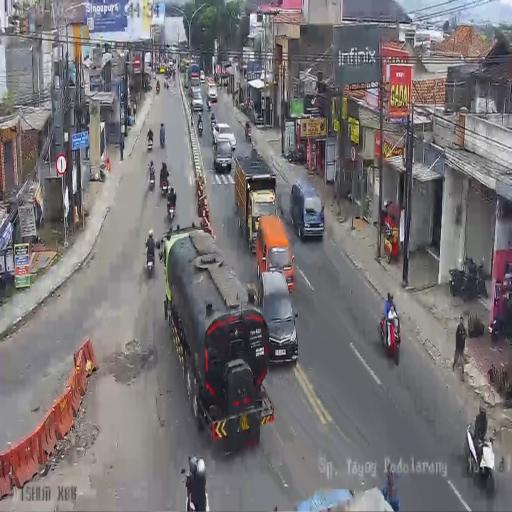3: (234, 154, 276, 250), (188, 63, 200, 85), (144, 51, 151, 73), (183, 57, 192, 70)
car: (258, 272, 300, 364), (290, 176, 325, 240), (212, 122, 235, 152), (190, 89, 204, 112), (207, 80, 217, 103), (188, 81, 194, 97), (158, 65, 166, 74), (200, 69, 205, 82)
truck: (464, 420, 496, 491), (379, 310, 401, 366), (491, 296, 512, 340), (286, 147, 305, 164), (166, 194, 176, 221), (148, 166, 155, 190), (210, 112, 217, 133), (197, 114, 203, 136), (147, 136, 153, 152), (160, 131, 165, 147), (206, 97, 211, 111), (156, 82, 160, 94), (164, 78, 168, 88)
